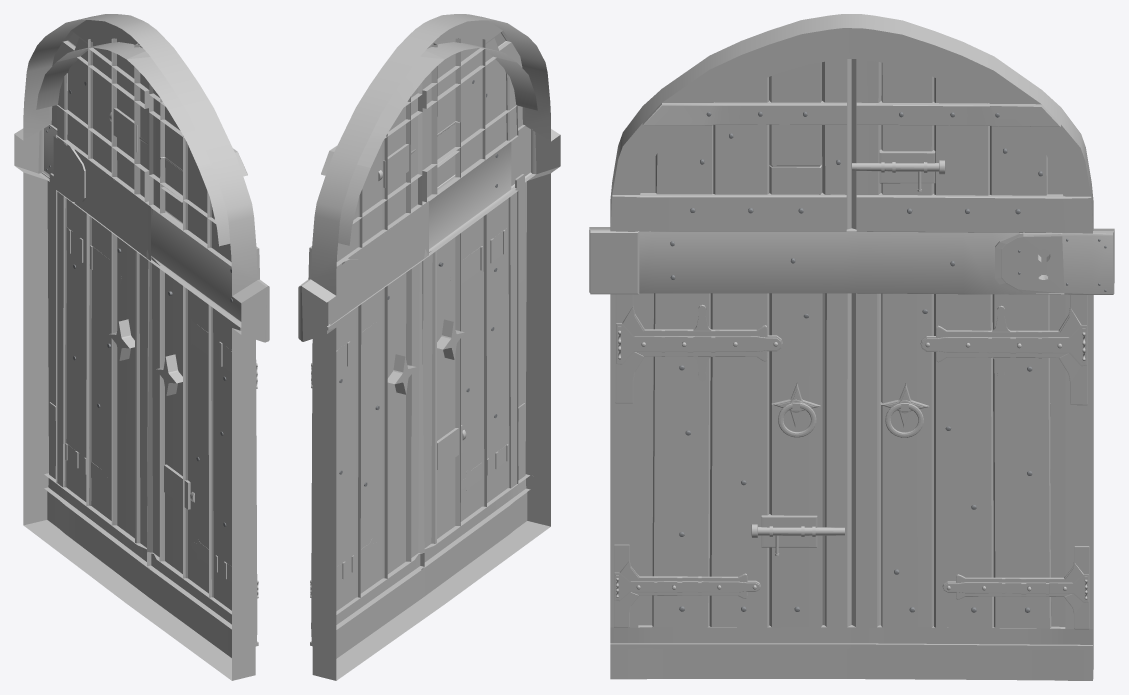
The model's file is Medieval_Door.fbx.
3 renders of one model, left to right at view 1: azimuth 30°, elevation 25°; view 2: azimuth 150°, elevation 25°; view 3: azimuth 270°, elevation 25°, orthographic. The views are drawn at different scales.
Visible parts, largest first — view 1: Door_woodparts, Door_Metalparts, Iron Parts; view 2: Door_woodparts, Door_Metalparts, Iron Parts; view 3: Door_woodparts, Door_Metalparts, Iron Parts, Bolts.
Boxes of the visible parts, left/top/right/bottom form: Door_woodparts: left=14, top=14, right=266, bottom=680; Door_Metalparts: left=36, top=20, right=269, bottom=657; Iron Parts: left=49, top=108, right=258, bottom=598; Door_woodparts: left=301, top=14, right=560, bottom=680; Door_Metalparts: left=298, top=20, right=537, bottom=658; Iron Parts: left=310, top=144, right=525, bottom=597; Door_woodparts: left=589, top=14, right=1114, bottom=678; Door_Metalparts: left=589, top=28, right=1114, bottom=680; Iron Parts: left=614, top=149, right=1089, bottom=629; Bolts: left=670, top=111, right=1106, bottom=612.
Size of the model in its own units: 16.96 by 276 by 202.
